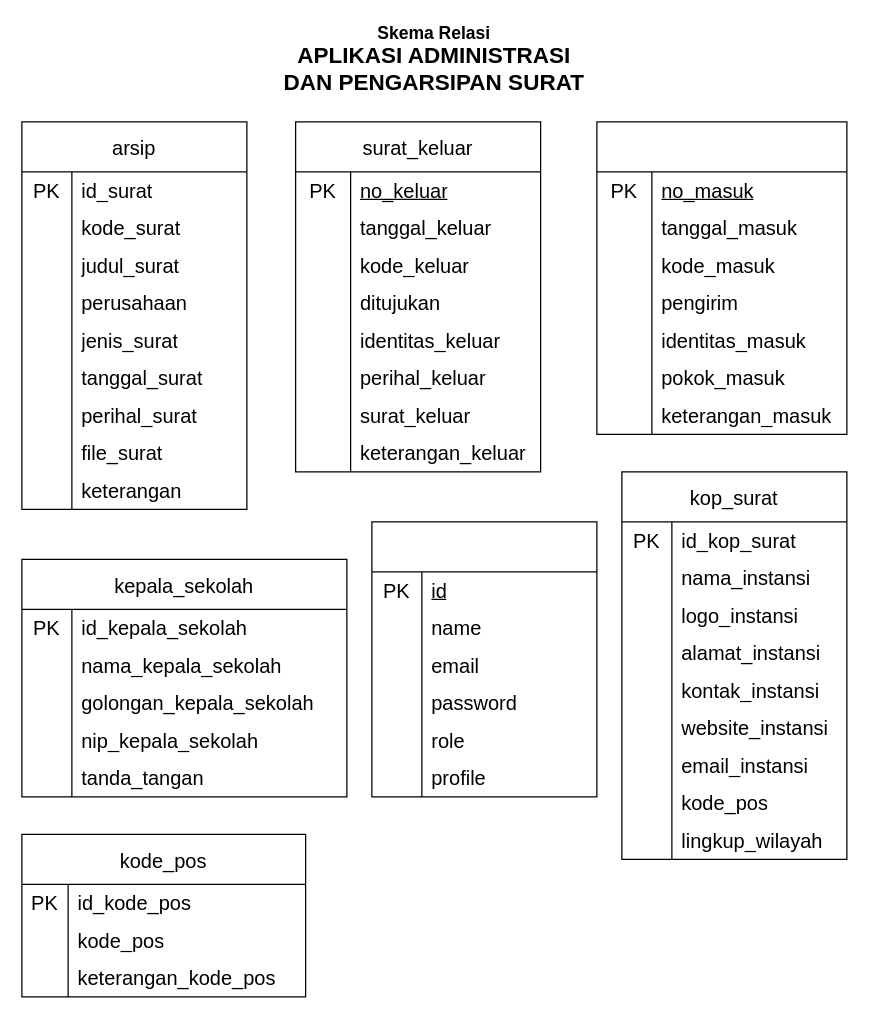
Some shapes in this 871 by 1019 pixel diagram are drawn without their labels. The shapes that lost their labels are listed below. From the top down, each one's box as (x1, y1, x2, y2) in pixels, then its label:
(596, 121, 847, 434): surat_masuk
(371, 521, 597, 797): users
